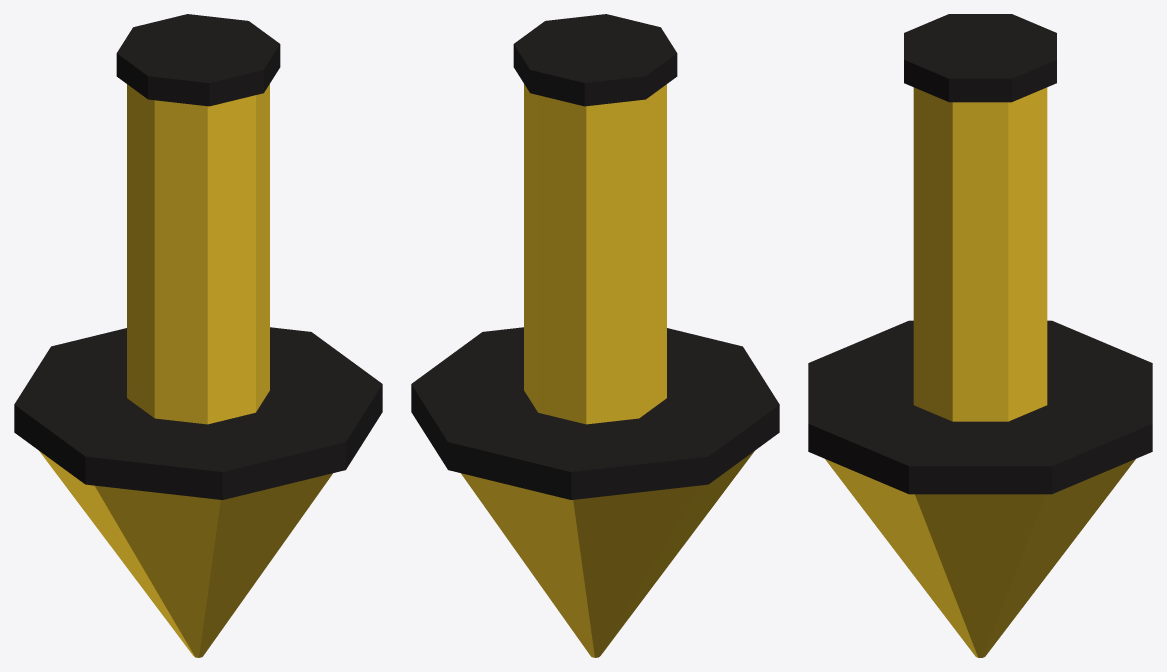
File: marker_arrow.obj
3 renders of one model, left to right at view 1: azimuth 30°, elevation 25°; view 2: azimuth 150°, elevation 25°; view 3: azimuth 270°, elevation 25°, orthographic.
Parts seen in each view (by area): view 1: Arrow.Shaft, Arrow.Rim, Arrow.Head, Arrow.Cap; view 2: Arrow.Shaft, Arrow.Rim, Arrow.Head, Arrow.Cap; view 3: Arrow.Shaft, Arrow.Rim, Arrow.Head, Arrow.Cap.
Boxes of the visible parts, box(x1,y1,x2,y2) form: Arrow.Shaft: box(127, 84, 269, 424); Arrow.Rim: box(14, 327, 382, 499); Arrow.Head: box(39, 451, 332, 657); Arrow.Cap: box(116, 14, 280, 106); Arrow.Shaft: box(524, 84, 666, 424); Arrow.Rim: box(411, 327, 779, 499); Arrow.Head: box(461, 451, 754, 657); Arrow.Cap: box(513, 14, 677, 106); Arrow.Shaft: box(913, 87, 1047, 421); Arrow.Rim: box(808, 320, 1152, 494); Arrow.Head: box(825, 459, 1135, 657); Arrow.Cap: box(904, 14, 1056, 102).
Size of the model in its own units: 0.666 by 1.3 by 0.666.
